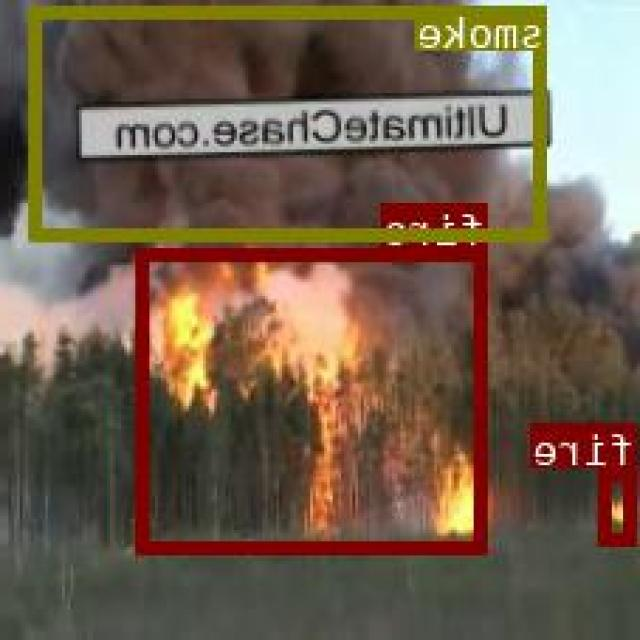fire: (138, 247, 488, 552), (602, 467, 638, 542)
smoke: (32, 4, 550, 240)
